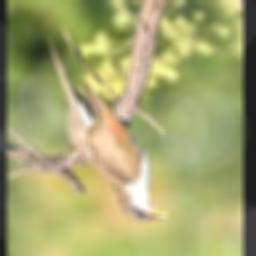Cuckoo: (48, 37, 171, 221)
